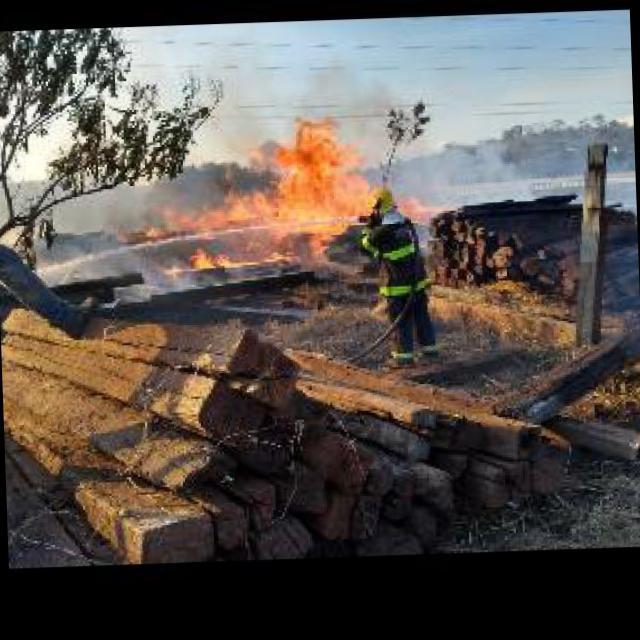fire: (168, 119, 428, 233), (168, 252, 291, 272)
